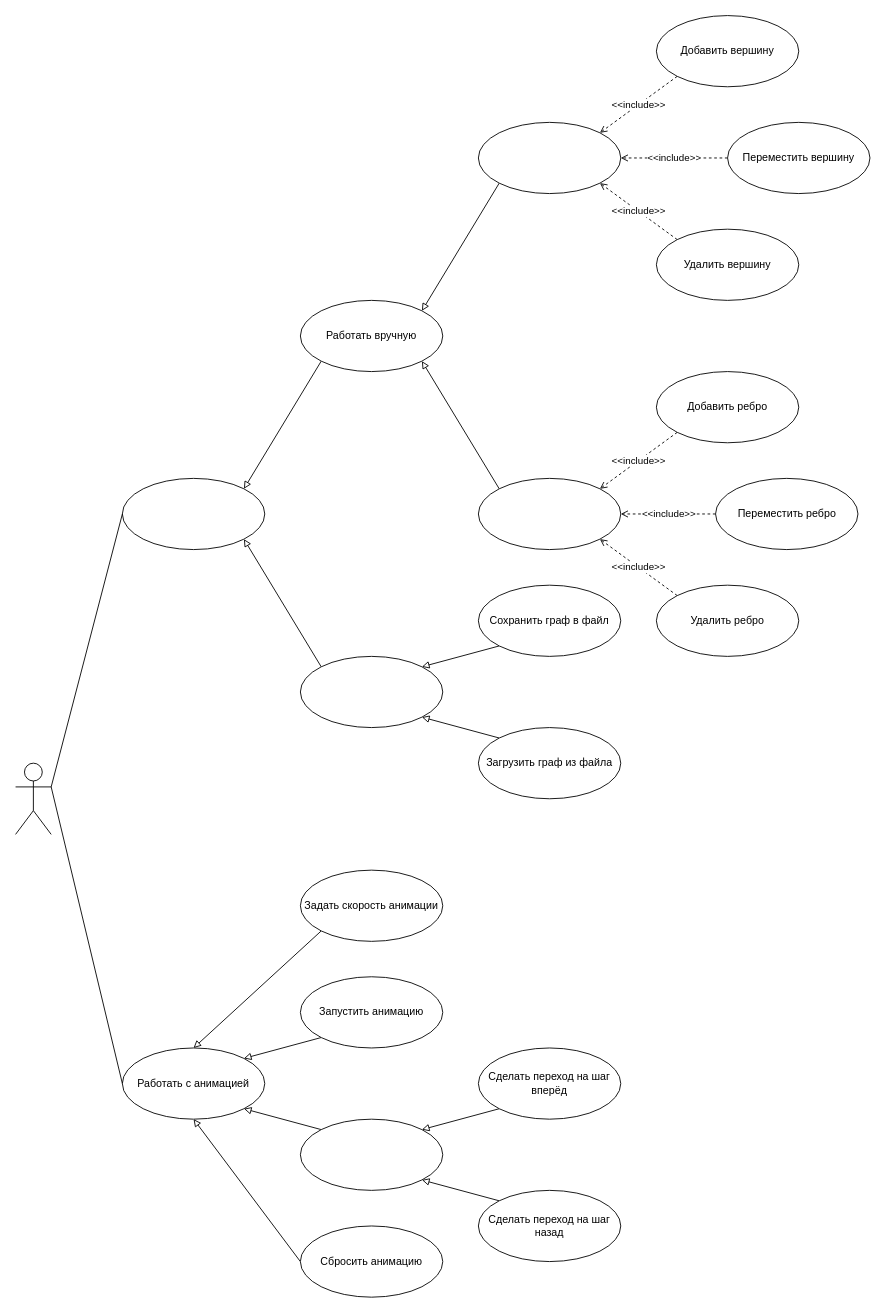
Some shapes in this 886 by 1313 pixel diagram are drawn without their labels. The shapes that lost their labels are listed below. From the top down, each one's box as (x1, y1, x2, y2) in pixels, then its label:
(477, 121, 621, 194): Редактировать вершины
(121, 477, 265, 550): Работать с графом
(477, 477, 621, 550): Редактировать рёбра
(299, 655, 443, 728): Работать через файл
(15, 762, 51, 834): Actor
(299, 1118, 443, 1190): Остановить анимацию
